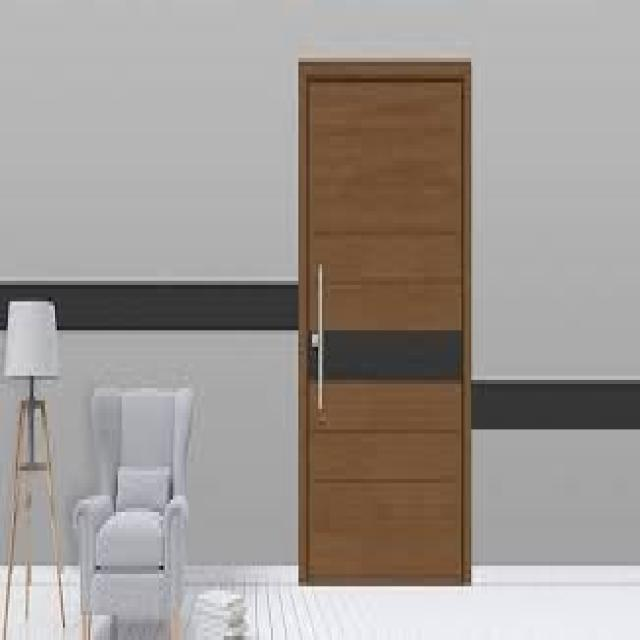door: (298, 60, 472, 588)
